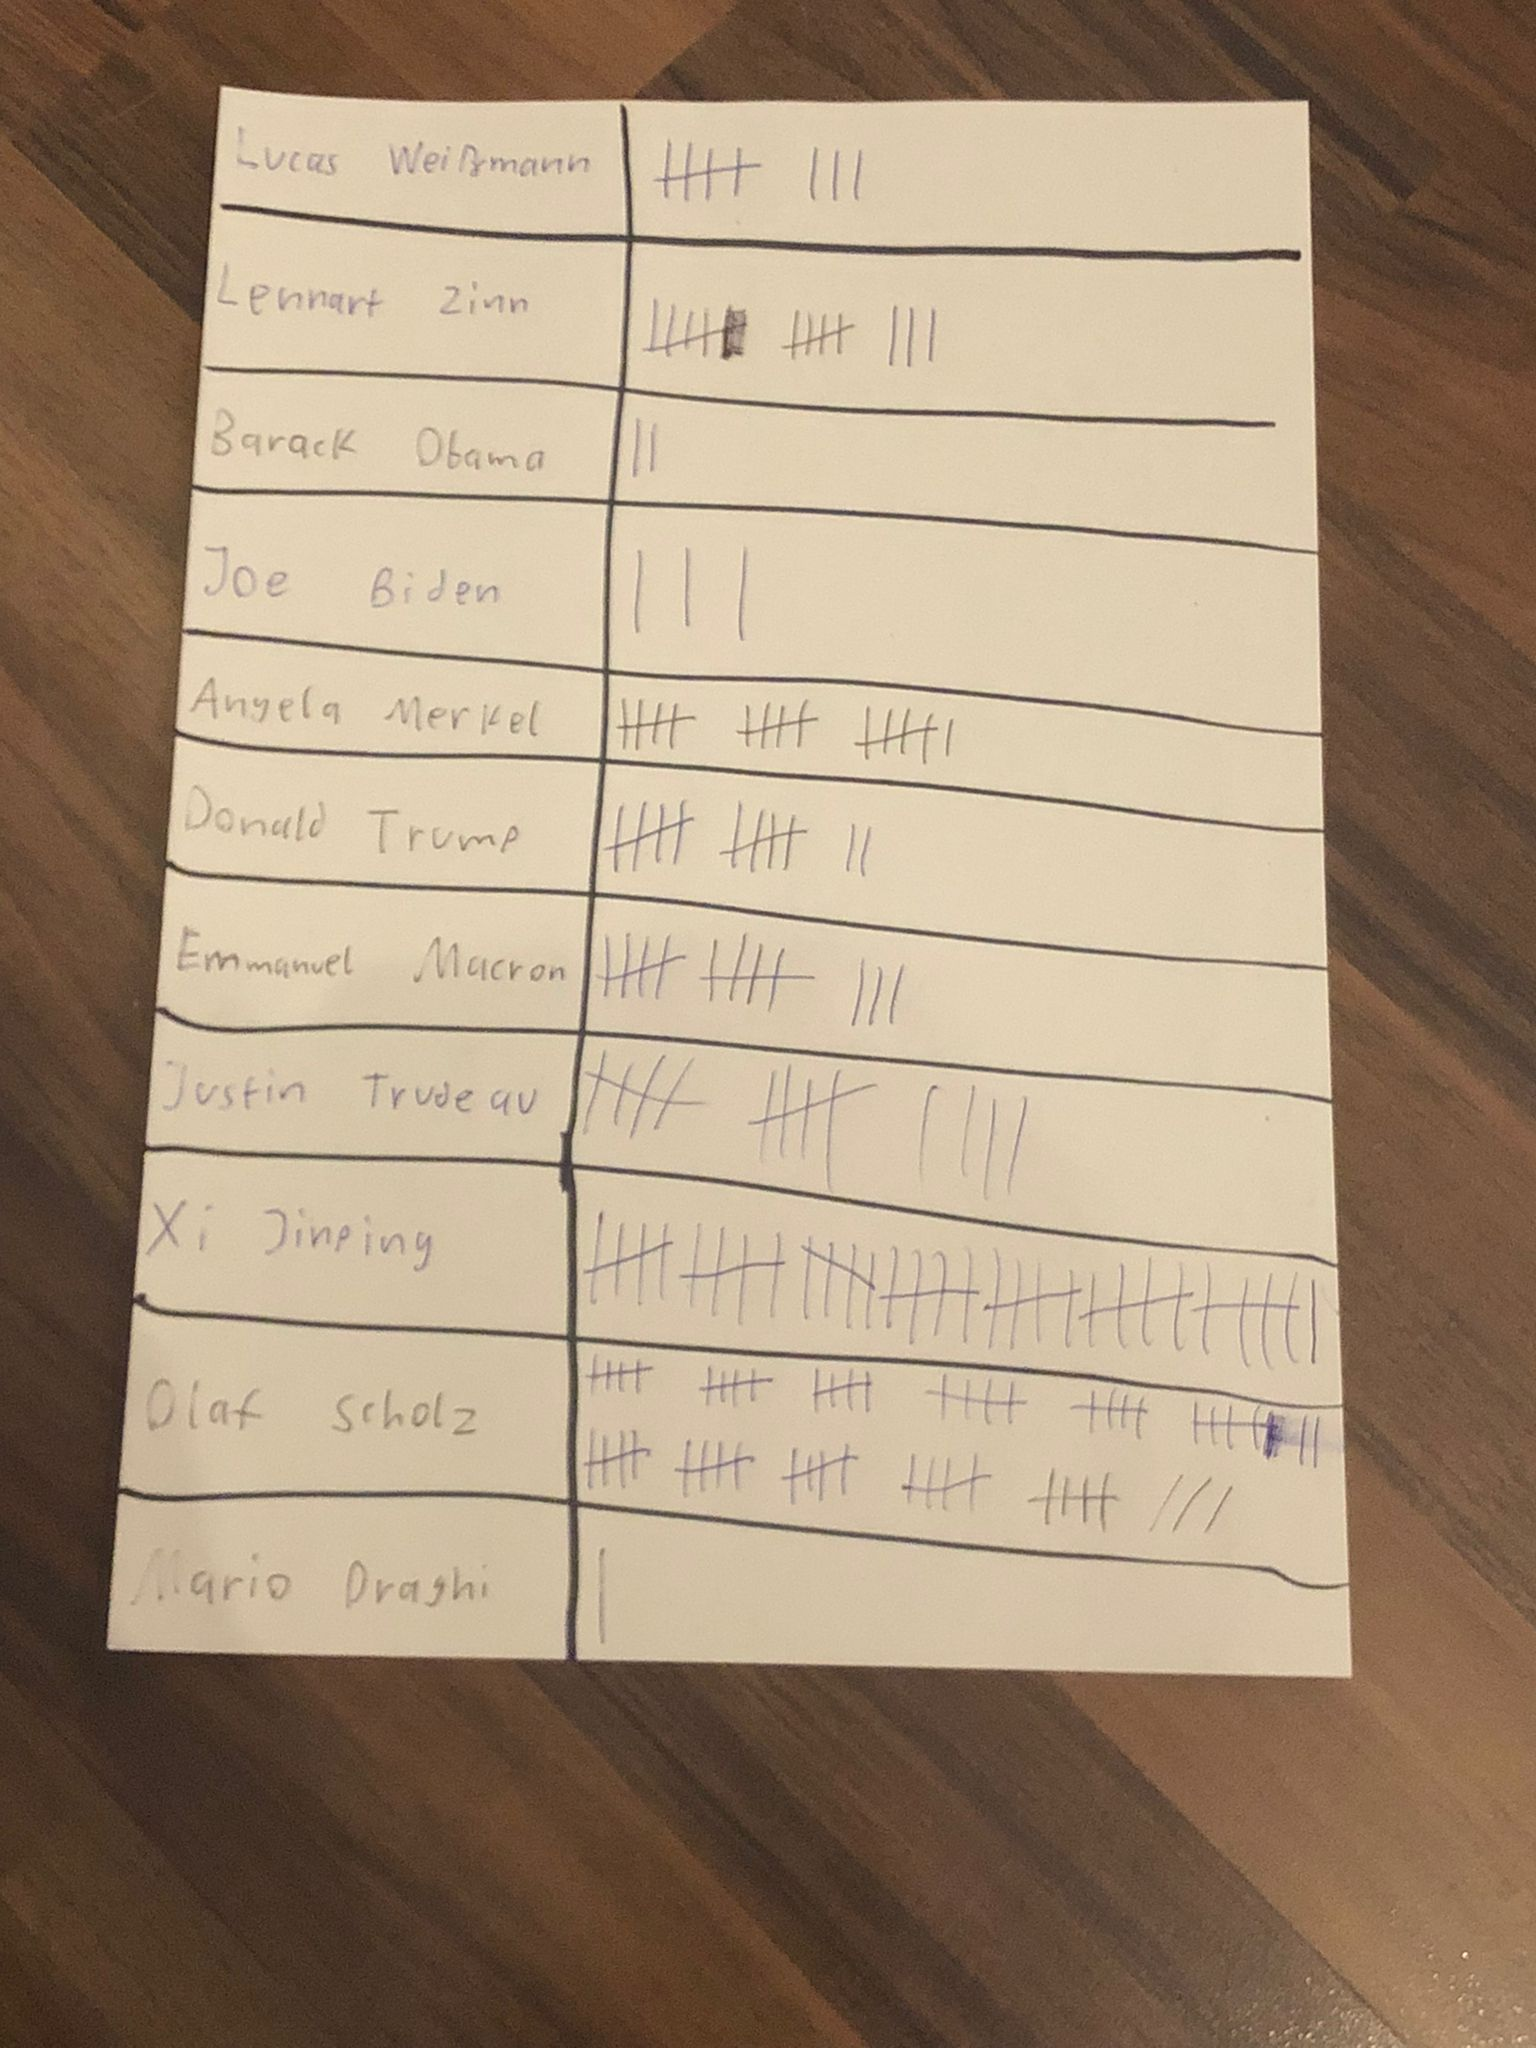Block: (760, 1043, 874, 1180), (594, 1034, 718, 1138), (1078, 1255, 1194, 1359), (678, 1213, 784, 1326), (1191, 1261, 1300, 1369), (879, 1237, 983, 1347), (700, 922, 816, 1016), (581, 1205, 673, 1321), (984, 1248, 1084, 1355), (650, 126, 763, 211), (794, 1221, 878, 1335), (595, 921, 689, 1013), (600, 793, 695, 876), (720, 793, 808, 879), (1025, 1461, 1121, 1537), (895, 1447, 992, 1517), (925, 1372, 1029, 1432), (854, 698, 939, 768), (642, 290, 721, 363), (671, 1430, 755, 1498), (1068, 1384, 1157, 1447), (615, 690, 700, 755), (783, 1440, 862, 1509), (733, 693, 820, 753), (582, 1422, 650, 1496), (1187, 1398, 1268, 1459), (779, 302, 857, 364), (799, 1364, 881, 1422), (689, 1359, 776, 1409), (581, 1350, 655, 1400), (1004, 1090, 1033, 1197)
Single: (915, 1071, 942, 1193), (591, 1542, 615, 1645), (628, 540, 652, 640), (733, 539, 753, 642), (962, 1072, 979, 1182), (849, 948, 866, 1035), (678, 539, 694, 632), (987, 1085, 1000, 1197), (866, 959, 887, 1026), (887, 956, 908, 1022), (904, 298, 921, 368), (1305, 1272, 1318, 1364), (863, 822, 883, 876), (1207, 1467, 1220, 1542), (1175, 1464, 1187, 1535), (926, 300, 941, 363), (884, 298, 897, 364), (845, 813, 858, 876), (629, 410, 641, 481), (647, 418, 662, 472), (1310, 1411, 1323, 1472), (828, 144, 841, 203), (1297, 1409, 1309, 1477), (942, 713, 958, 758), (805, 144, 816, 203), (1228, 1480, 1238, 1546), (852, 147, 863, 198)
